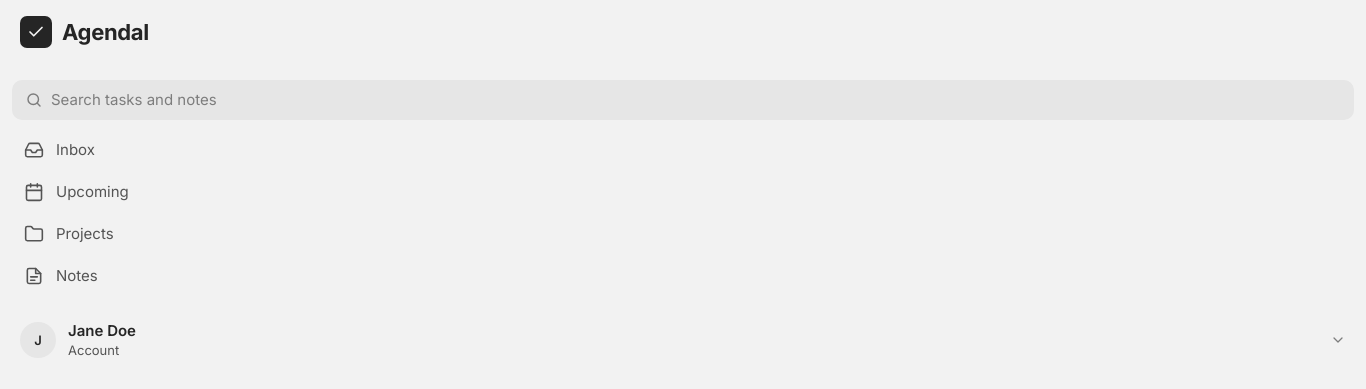
Scenario: AccountMenu and Sidebar integration (issue #149 C) › Account opens Settings on Account tab
This screenshot has width=1366, height=389.
Click the button "J Jane Doe Account": [38, 340] box [12,312,1354,368]
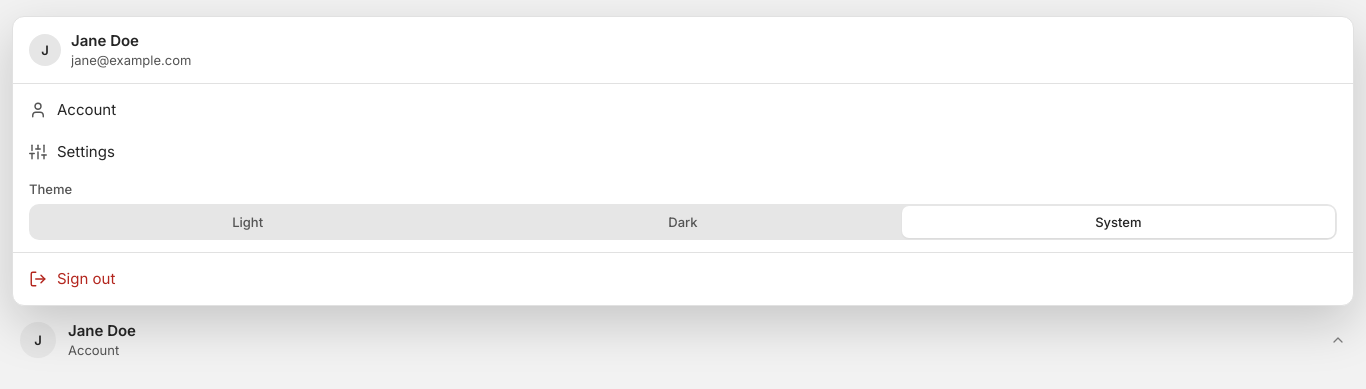
Click the menu item "Account": [87, 110] box [19,90,1347,130]
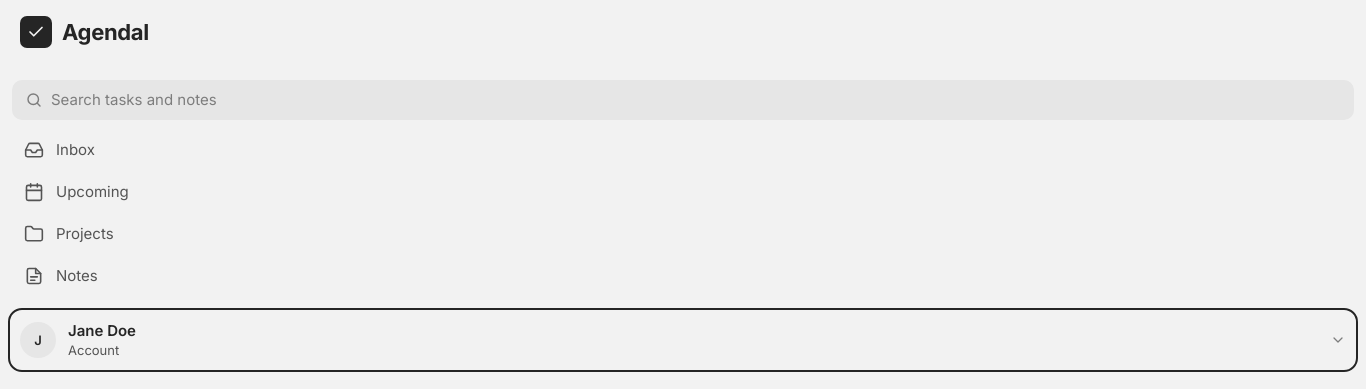
Expected: the menu is gone
